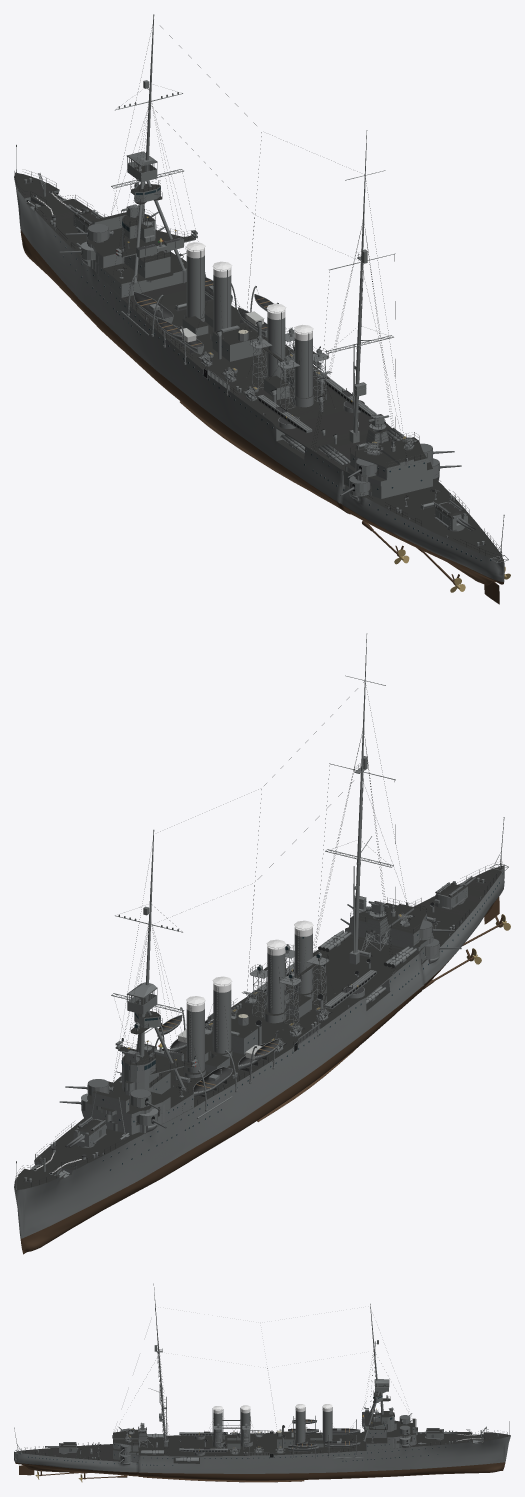
File: omaha.glb
The picture shows the model from 3 angles, top to bottom: view 1: azimuth 30°, elevation 25°; view 2: azimuth 150°, elevation 25°; view 3: azimuth 270°, elevation 25°; orthographic projection. The views are drawn at different scales.
Visible parts, largest first — view 1: Blueprint lofted hull, foremast.mesh, mainmast.mesh, navigation-bridge.mesh, funnel-1.mesh, funnel-4.mesh, funnel-2.mesh, midships-house.mesh, funnel-3.mesh, fwd-00.mesh, after-house-low.mesh, fwd-01.mesh (+4 smaller); view 2: Blueprint lofted hull, foremast.mesh, mainmast.mesh, funnel-2.mesh, funnel-1.mesh, funnel-3.mesh, funnel-4.mesh, fwd-03.mesh, navigation-bridge.mesh, midships-house.mesh, fwd-00.mesh, main-2.yaw.mesh (+2 smaller); view 3: Blueprint lofted hull, foremast.mesh, mainmast.mesh, funnel-2.mesh, funnel-1.mesh, bilge-keels.mesh, fwd-03.mesh, funnel-3.mesh, funnel-4.mesh, navigation-bridge.mesh, fwd-00.mesh, catapult-starboard.mesh (+1 smaller).
Boxes of the visible parts, x1=… form: Blueprint lofted hull: x1=14, y1=172, x2=504, y2=585; foremast.mesh: x1=110, y1=14, x2=205, y2=305; mainmast.mesh: x1=150, y1=26, x2=408, y2=460; navigation-bridge.mesh: x1=115, y1=224, x2=197, y2=258; funnel-1.mesh: x1=186, y1=248, x2=204, y2=318; funnel-4.mesh: x1=294, y1=330, x2=312, y2=398; funnel-2.mesh: x1=213, y1=267, x2=231, y2=331; midships-house.mesh: x1=212, y1=324, x2=261, y2=361; funnel-3.mesh: x1=267, y1=309, x2=285, y2=377; fwd-00.mesh: x1=90, y1=260, x2=186, y2=297; after-house-low.mesh: x1=341, y1=468, x2=432, y2=498; fwd-01.mesh: x1=96, y1=252, x2=186, y2=285; Blueprint lofted hull: x1=14, y1=865, x2=504, y2=1254; foremast.mesh: x1=110, y1=829, x2=199, y2=1112; mainmast.mesh: x1=159, y1=633, x2=408, y2=1013; funnel-2.mesh: x1=213, y1=982, x2=231, y2=1053; funnel-1.mesh: x1=186, y1=1001, x2=204, y2=1072; funnel-3.mesh: x1=267, y1=945, x2=285, y2=1013; funnel-4.mesh: x1=294, y1=926, x2=312, y2=993; fwd-03.mesh: x1=86, y1=1076, x2=170, y2=1117; navigation-bridge.mesh: x1=115, y1=1038, x2=197, y2=1075; midships-house.mesh: x1=212, y1=1018, x2=257, y2=1054; fwd-00.mesh: x1=84, y1=1095, x2=193, y2=1134; main-2.yaw.mesh: x1=434, y1=881, x2=467, y2=909; Blueprint lofted hull: x1=14, y1=1432, x2=510, y2=1480; foremast.mesh: x1=361, y1=1303, x2=413, y2=1441; mainmast.mesh: x1=112, y1=1283, x2=276, y2=1455; funnel-2.mesh: x1=296, y1=1407, x2=305, y2=1442; funnel-1.mesh: x1=323, y1=1407, x2=332, y2=1442; bilge-keels.mesh: x1=143, y1=1477, x2=304, y2=1482; fwd-03.mesh: x1=367, y1=1420, x2=417, y2=1439; funnel-3.mesh: x1=241, y1=1408, x2=250, y2=1442; funnel-4.mesh: x1=213, y1=1409, x2=222, y2=1442; navigation-bridge.mesh: x1=362, y1=1407, x2=386, y2=1429; fwd-00.mesh: x1=365, y1=1437, x2=415, y2=1450; catapult-starboard.mesh: x1=179, y1=1447, x2=227, y2=1455.
Size of the model in its own units: 24.26 by 72.3 by 170.
17 materials, 13 textured.
